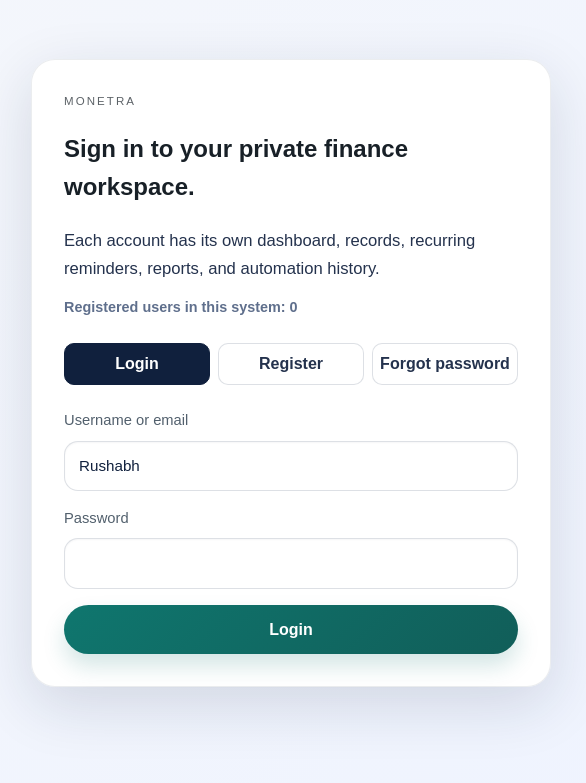
Test case: AuthenticatedApp › falls back to the login form when the session check fails and surfaces login errors
Expected: the heading "Sign in to your private finance workspace." is shown, x1=64 y1=135 x2=408 y2=200
Type "wrong" into the password field labelled "Password" at (291, 564), box x1=64 y1=538 x2=518 y2=589
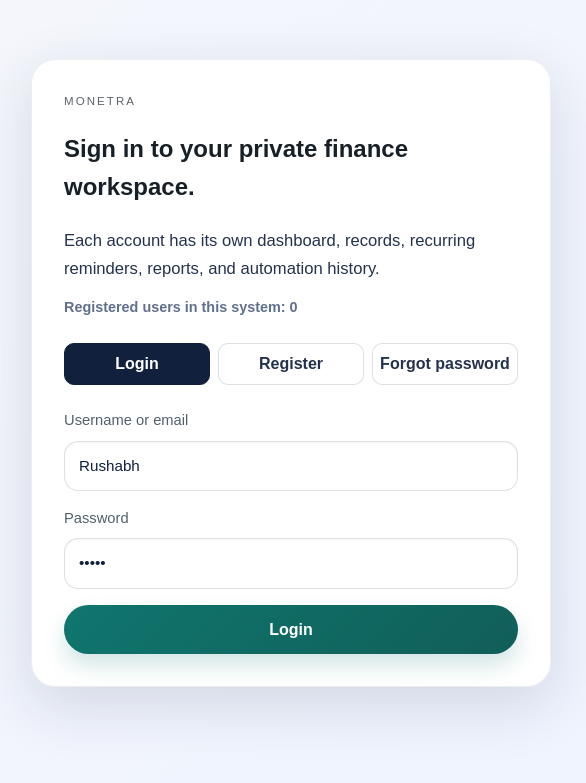
Click the button "Login" below "Username or email" at (291, 630), box x1=64 y1=605 x2=518 y2=654
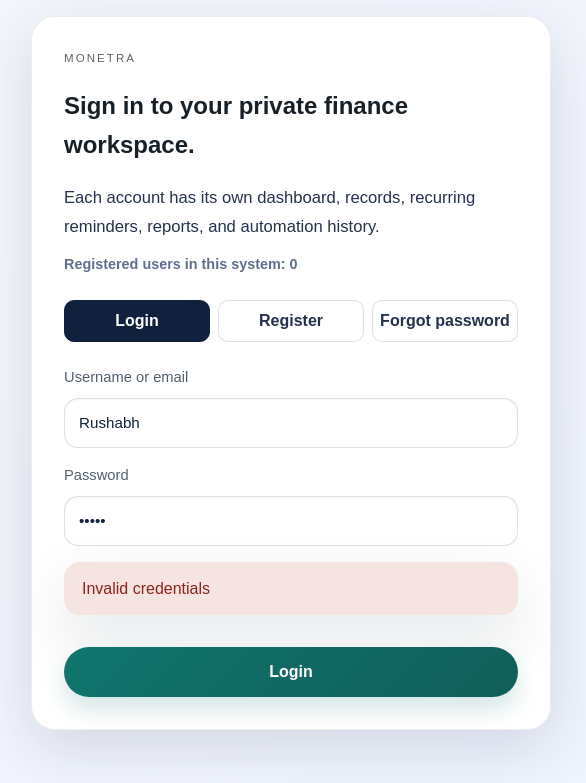
Expected: the text "Invalid credentials" is shown, x1=64 y1=562 x2=518 y2=616
